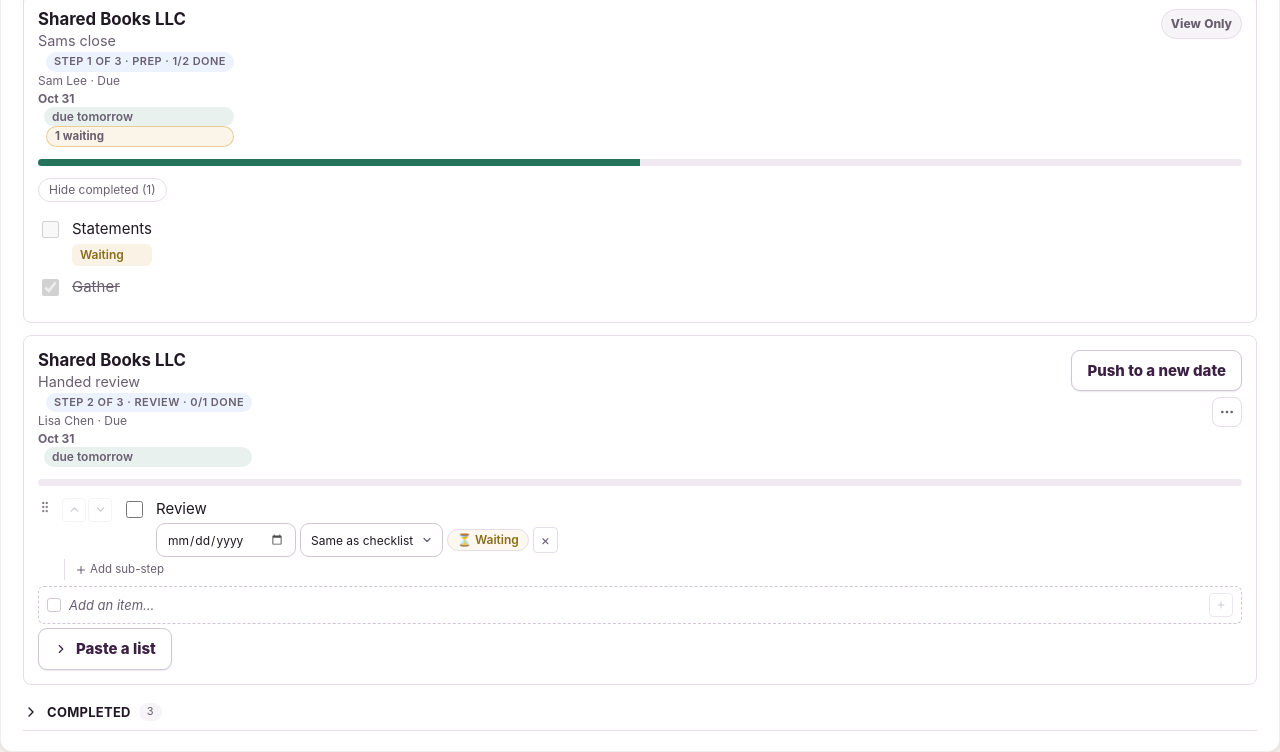
Test case: Open next step now › is absent on a finished step whose next step is open, and on a finished last step
(page scrolled)
What coordinates should you click on to do the following:
click the button "Completed 3"
I would click on:
 (89, 712)
Its box is x1=23 y1=695 x2=1257 y2=731.
(page scrolled)
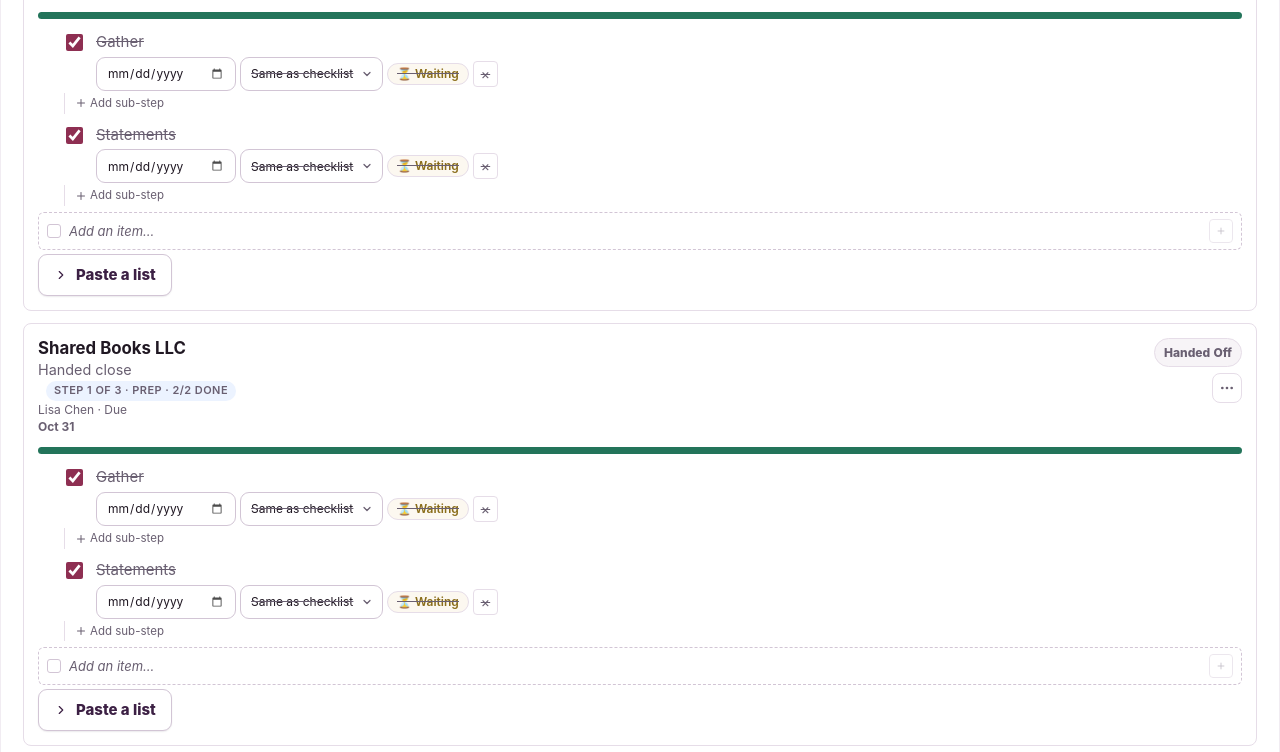
expect the text "Handed off" is shown: met, box x1=1154 y1=338 x2=1242 y2=367
